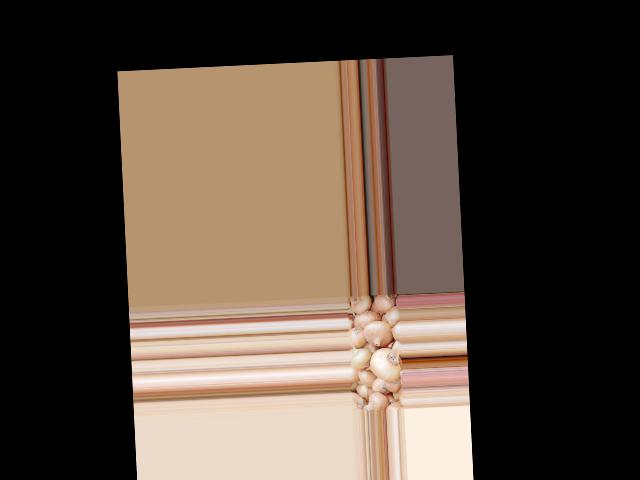onion: (351, 294, 371, 313)
